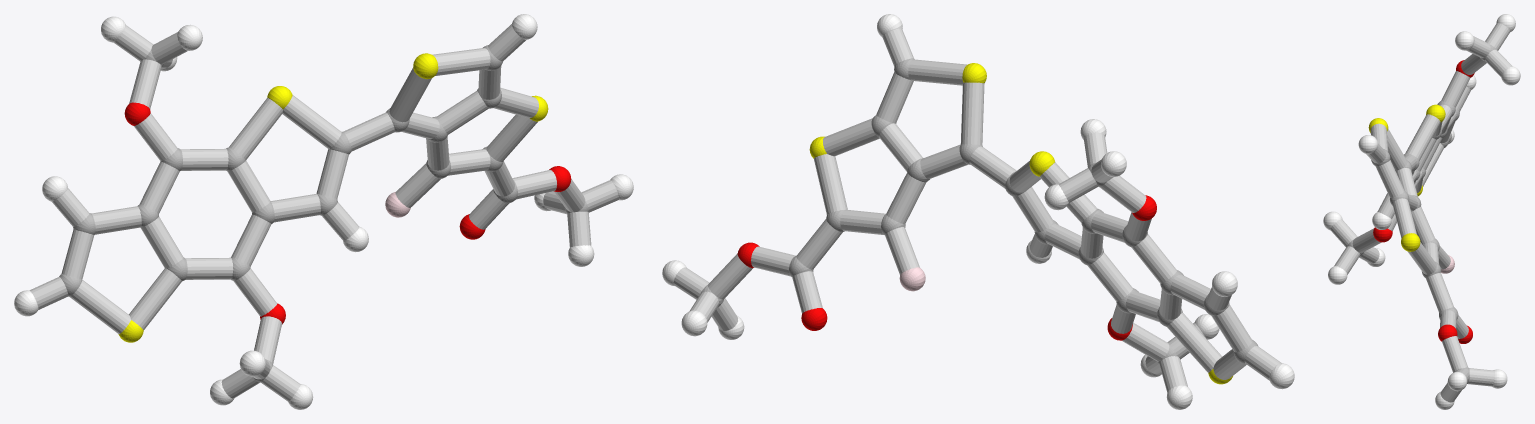
The model's file is color.glb.
3 views of the same model, side by side, from view 1: azimuth 30°, elevation 25°; view 2: azimuth 150°, elevation 25°; view 3: azimuth 270°, elevation 25° (orthographic). The views are drawn at different scales.
Visible parts, largest first — view 1: grp15205, grp8689, grp1, grp7241, grp13395; view 2: grp15205, grp8689, grp1, grp13395, grp7241; view 3: grp15205, grp8689, grp1, grp7241, grp13395.
Part boxes in pixels (x1,y1,x2,y2): grp15205: [29, 24, 618, 401]; grp8689: [14, 14, 633, 409]; grp1: [59, 45, 588, 382]; grp7241: [118, 53, 548, 342]; grp13395: [124, 102, 571, 324]; grp15205: [673, 28, 1281, 392]; grp8689: [662, 14, 1294, 409]; grp1: [700, 58, 1257, 364]; grp13395: [737, 195, 1156, 340]; grp7241: [809, 63, 1232, 384]; grp15205: [1330, 23, 1512, 402]; grp8689: [1323, 14, 1520, 409]; grp1: [1347, 44, 1496, 383]; grp7241: [1368, 104, 1445, 251]; grp13395: [1373, 60, 1474, 343].
Bounding box in the file's own units: 16.53 × 8.29 × 6.07.
